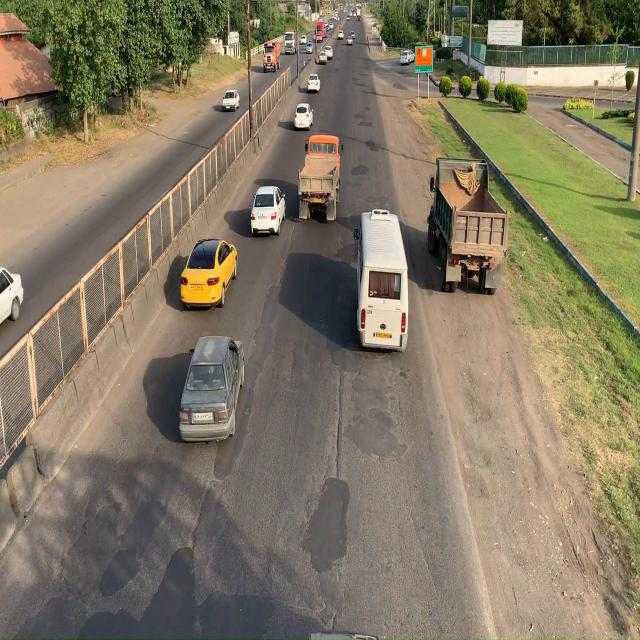Bus: (354, 209, 409, 354)
Truck: (425, 160, 510, 303), (296, 134, 344, 220)
cars: (174, 336, 245, 444), (176, 236, 238, 315), (246, 182, 287, 241), (292, 99, 314, 129), (220, 89, 242, 114)
